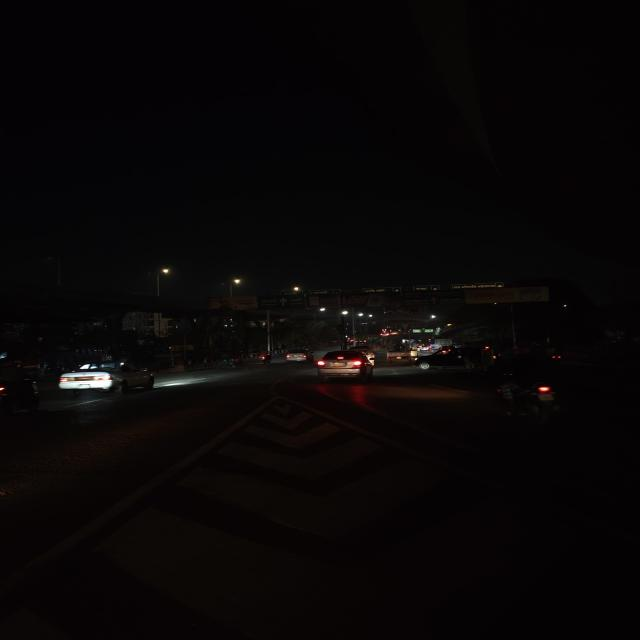car: (56, 361, 161, 396), (315, 349, 376, 381), (412, 346, 481, 372), (283, 349, 313, 363)
motorcycle: (486, 345, 566, 425)
pickup_van: (386, 340, 418, 364)
